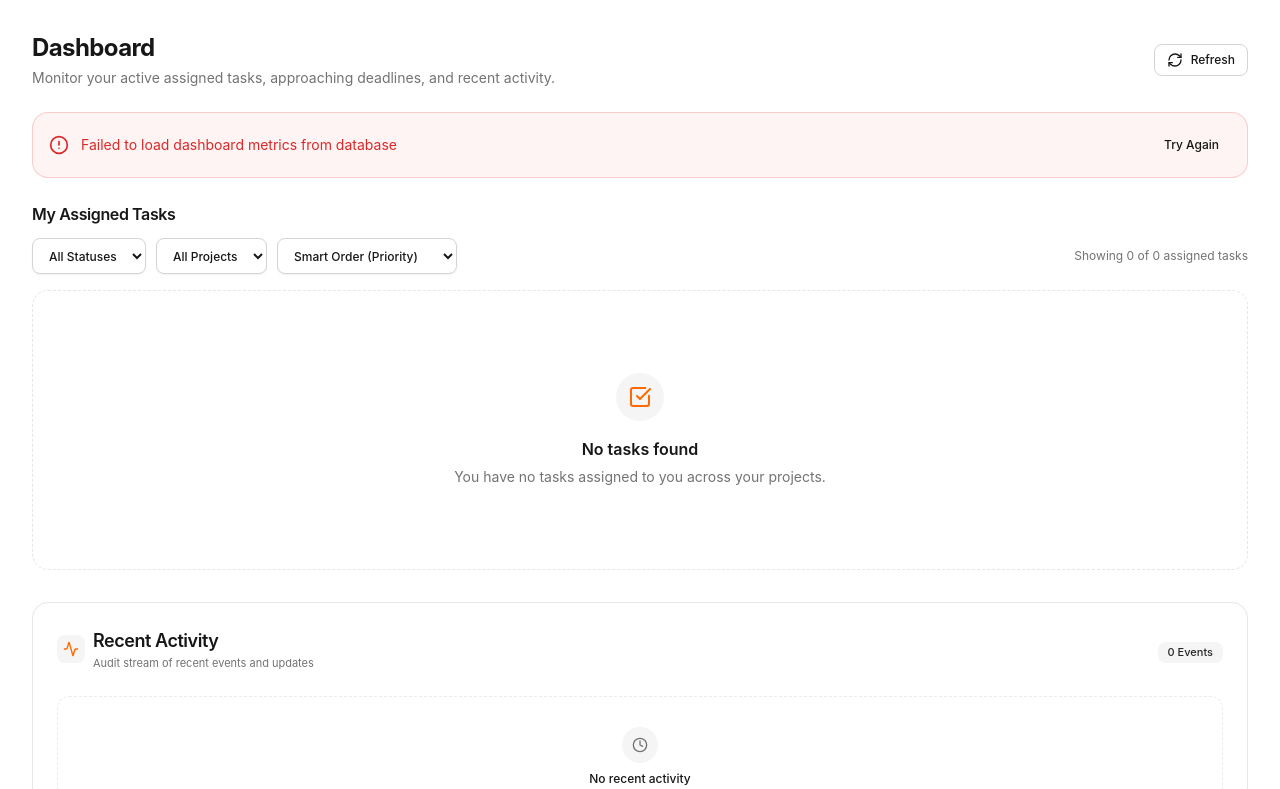
Test: DashboardPage › displays error banner when an API request fails and allows retry
Expected: the message "Failed to load dashboard metrics from database Try Again" is shown, [32,112,1248,178]
Expected: the text "Failed to load dashboard metrics from database" is shown, [81,135,397,155]
Note: Retry with Try Again button
Click the button "Try Again": click(1192, 145) [1152,129,1231,161]
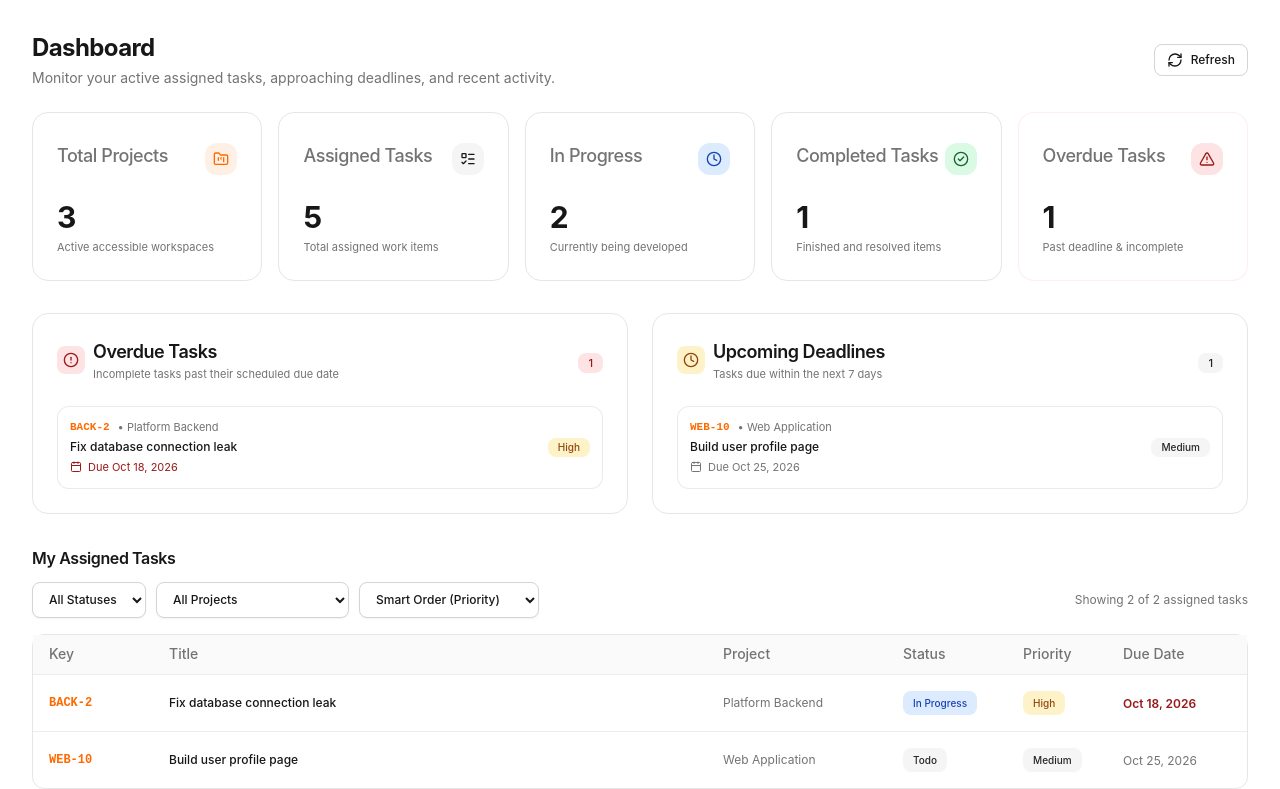
Result: the heading "Total Projects" is shown at [57,142,168,170]
